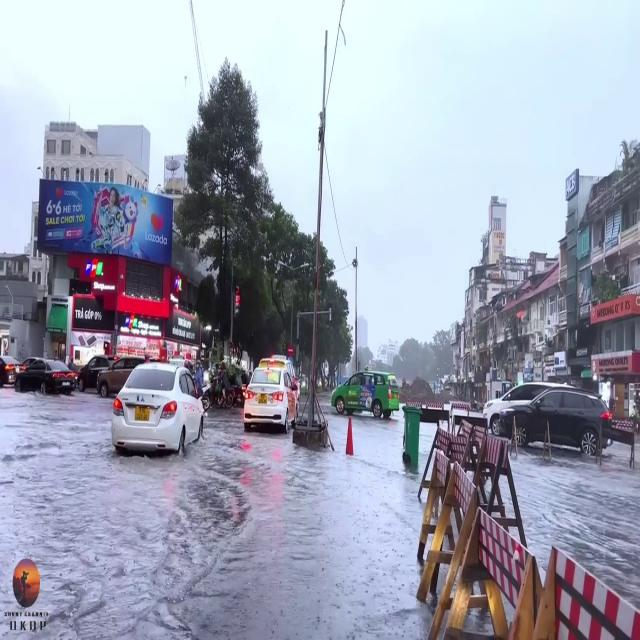bien_vang: (135, 404, 149, 420)
